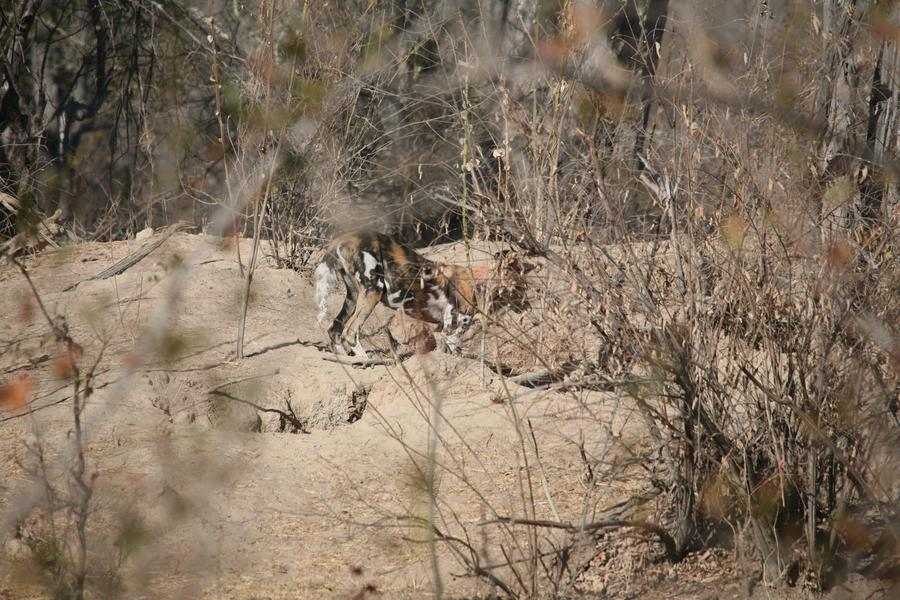wilddog: (315, 234, 535, 346)
